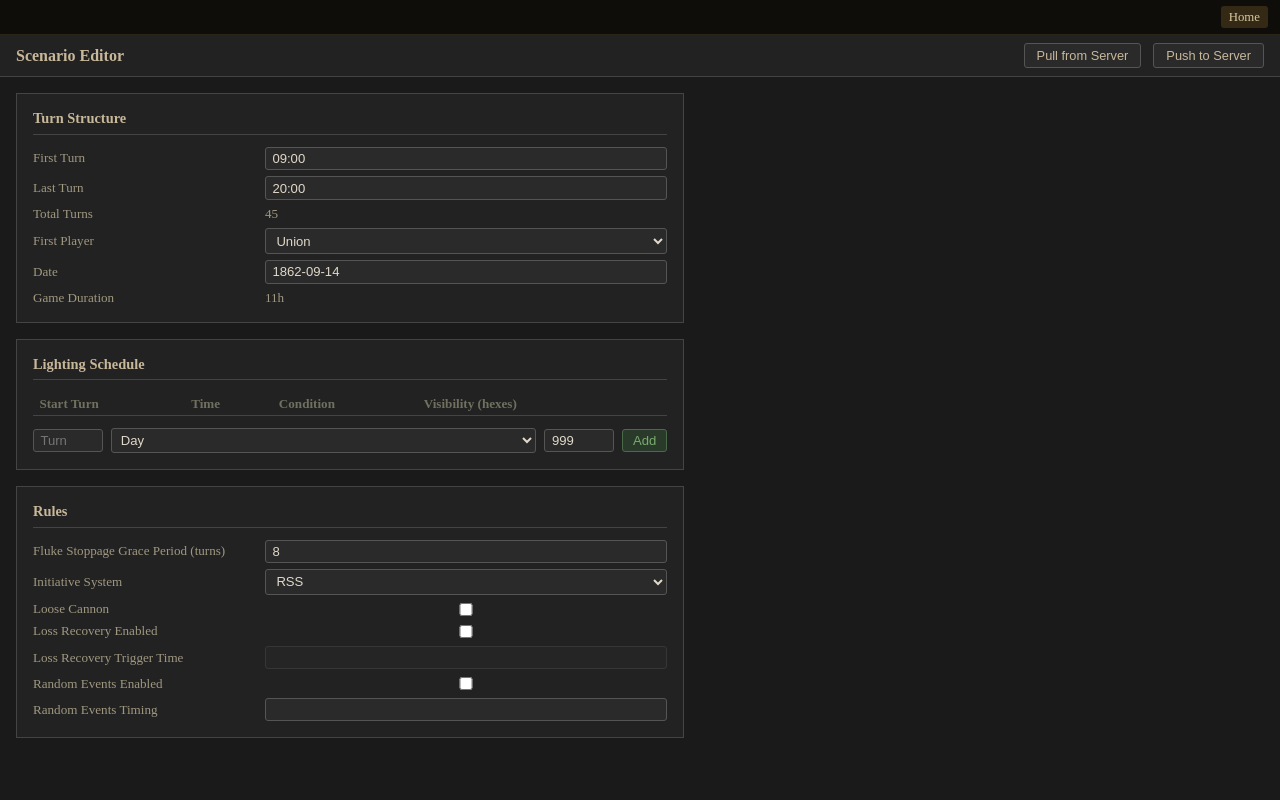
Test case: ScenarioEditorView › push shows confirm dialog when server data is newer than local draft
The width and height of the screenshot is (1280, 800).
Click the button with class "save-btn".
click(1209, 56)  # box [1153,43,1264,68]
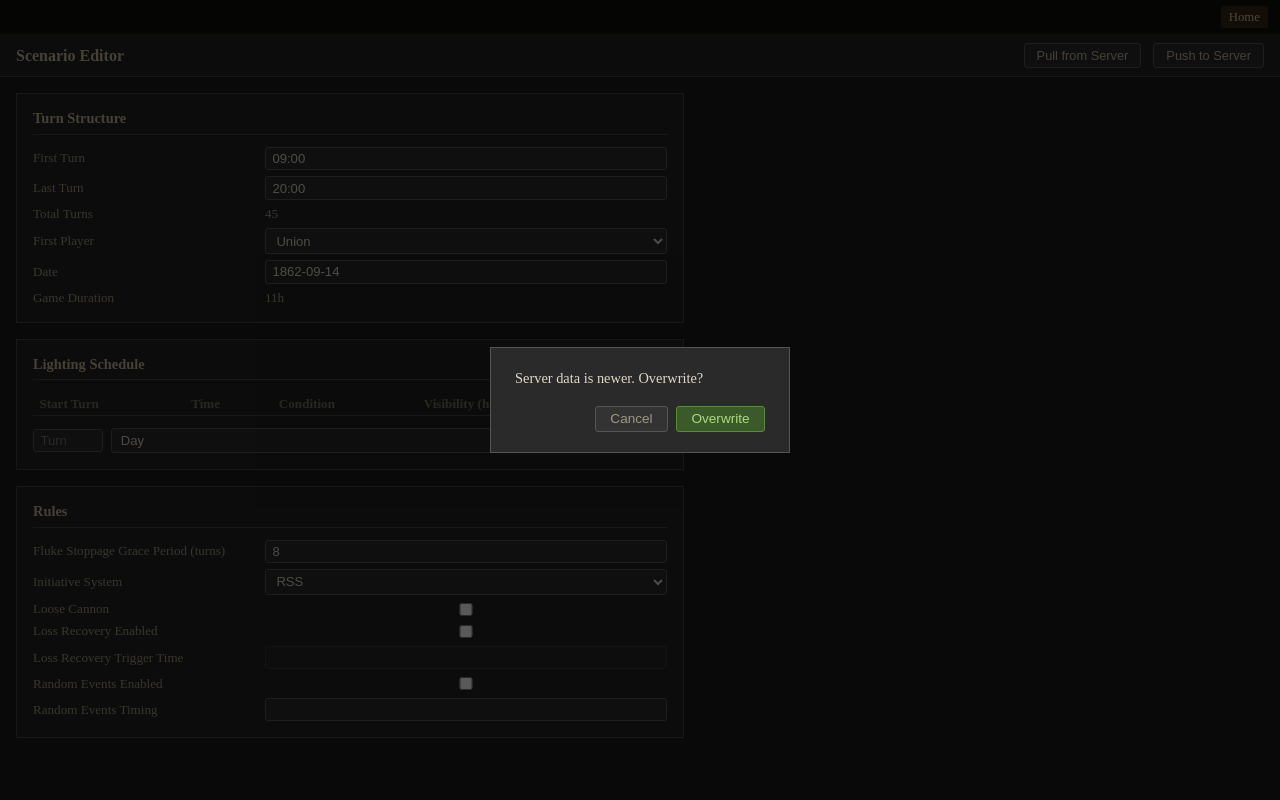
Expected: the text "Server data is newer" is shown, [515,370,703,386]
